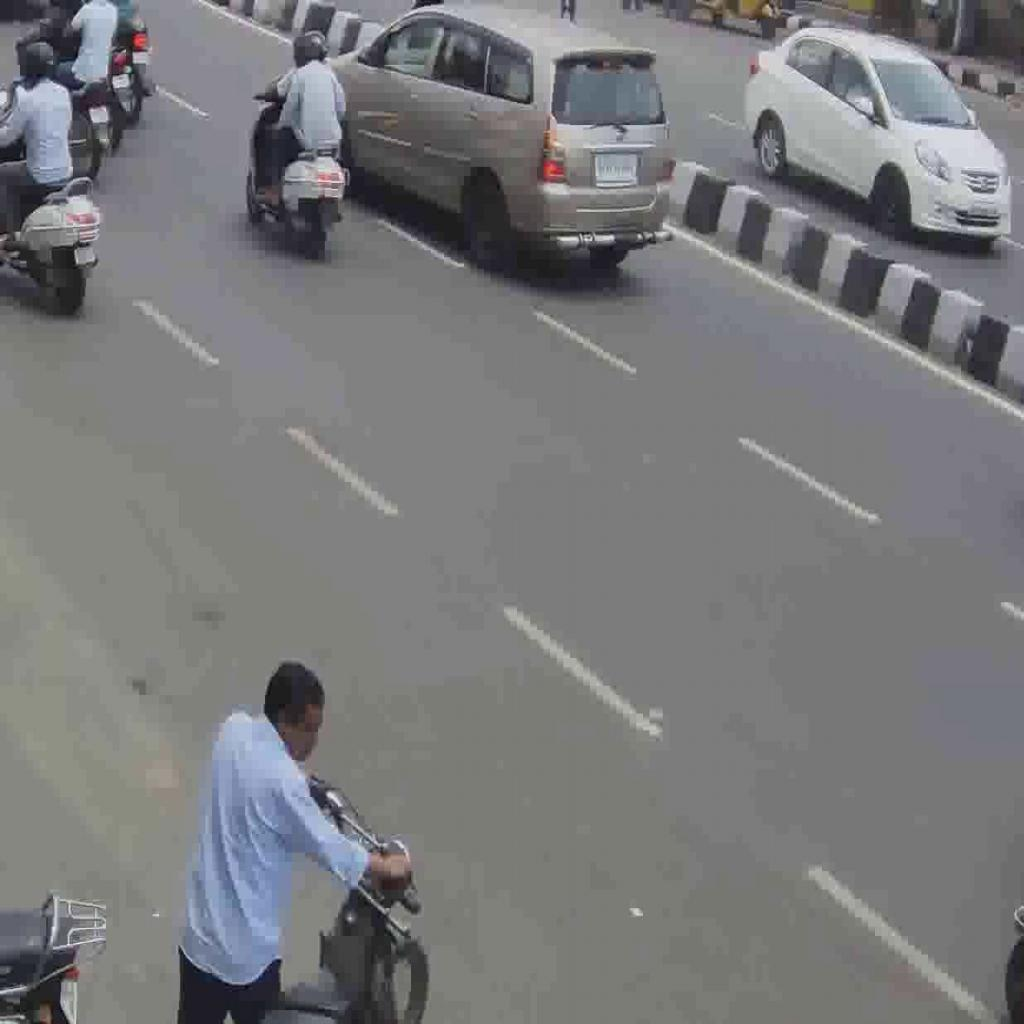helmet: (244, 76, 346, 254), (2, 145, 102, 311)
